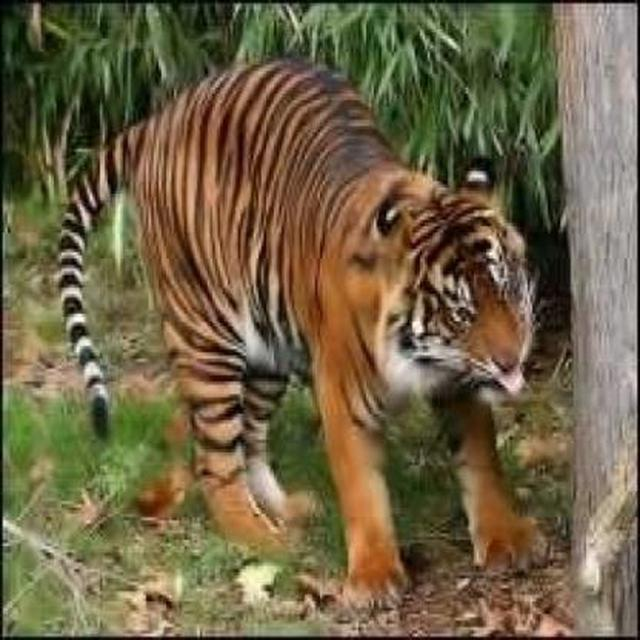tiger: (53, 54, 551, 613)
